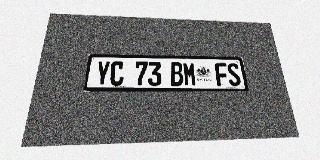3: (148, 62, 161, 86)
7: (134, 61, 148, 86)
B: (170, 62, 184, 86)
C: (109, 61, 124, 86)
F: (214, 63, 229, 86)
M: (183, 62, 197, 86)
S: (226, 63, 242, 86)
Y: (94, 61, 111, 86)
